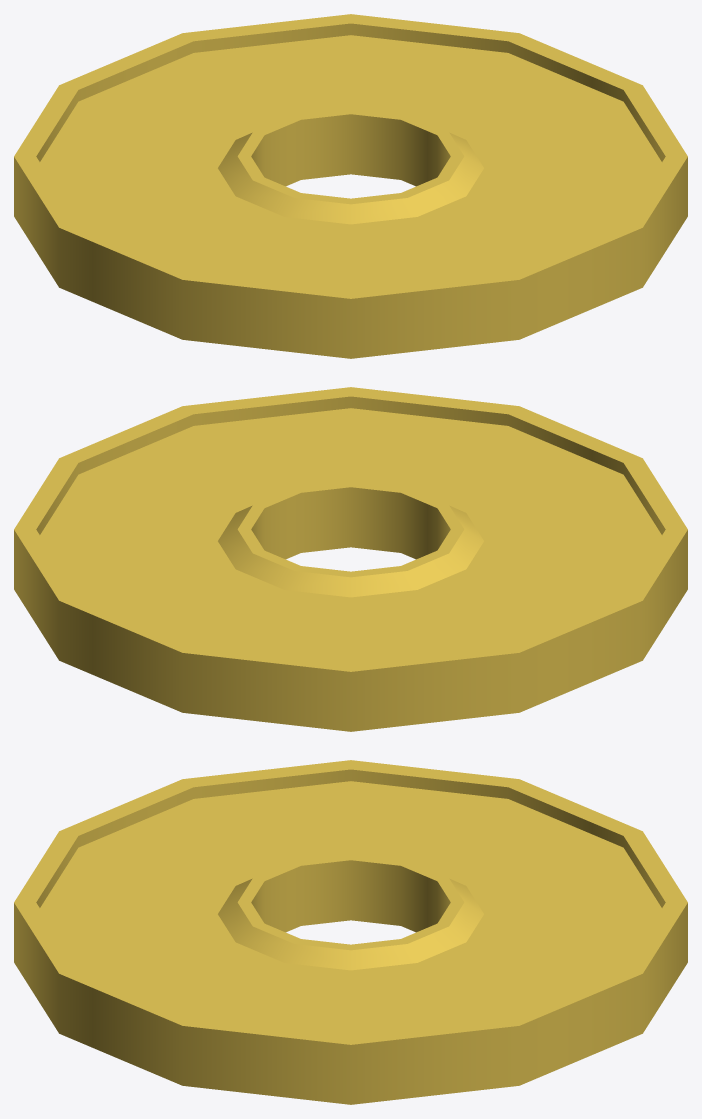
File: coinv3.glb
The picture shows the model from 3 angles, top to bottom: view 1: azimuth 30°, elevation 25°; view 2: azimuth 150°, elevation 25°; view 3: azimuth 270°, elevation 25°; orthographic projection.
Parts seen in each view (by area): view 1: Cylinder.001; view 2: Cylinder.001; view 3: Cylinder.001.
Part boxes in pixels (left/top/right/bottom): Cylinder.001: left=14, top=14, right=687, bottom=358; Cylinder.001: left=14, top=387, right=687, bottom=731; Cylinder.001: left=14, top=760, right=687, bottom=1104.
Bounding box in the file's own units: 2 × 0.1969 × 2.
